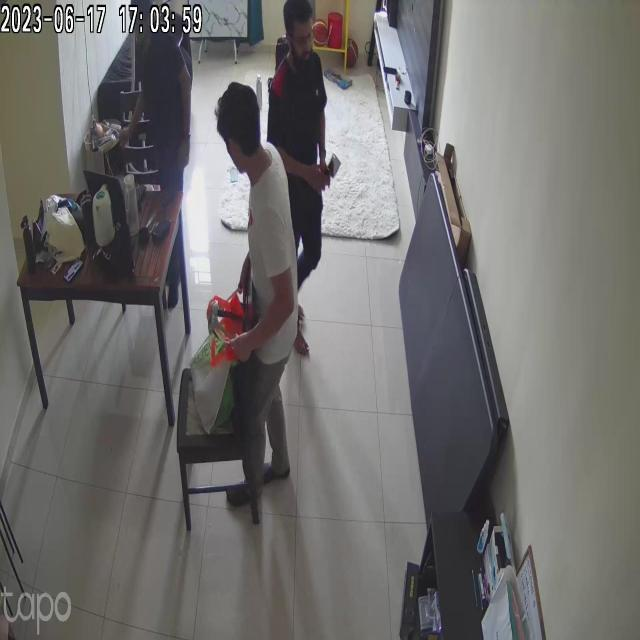Knife: (317, 140, 355, 192)
